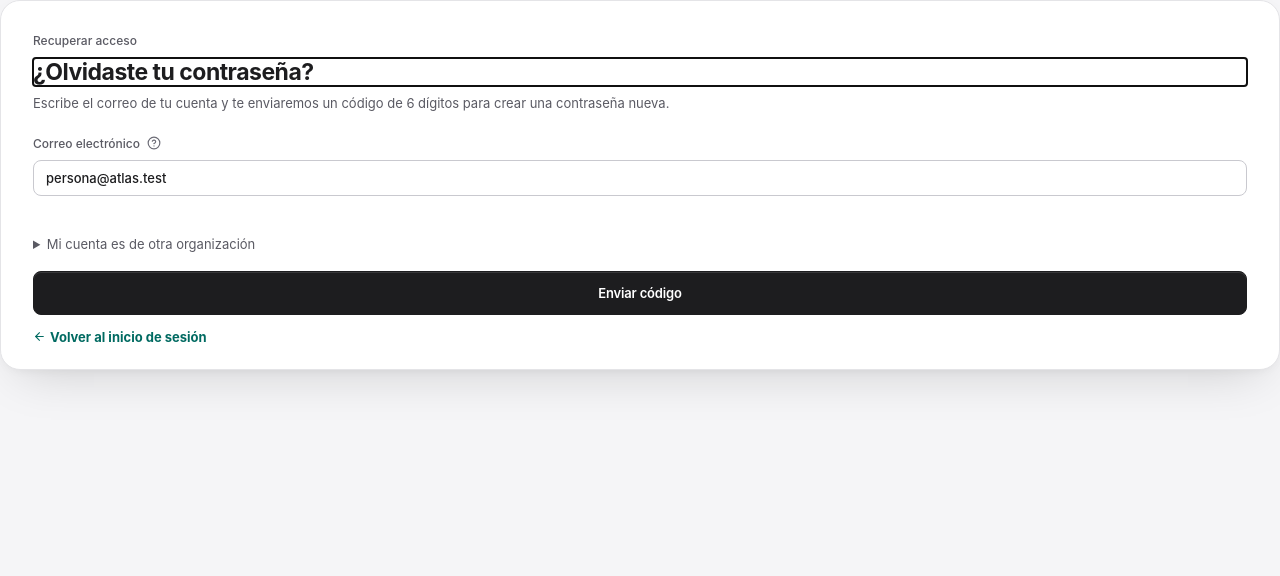
Scenario: PasswordRecovery › pide el código al correo escrito y responde lo mismo exista o no la cuenta
The width and height of the screenshot is (1280, 576).
Click the button "Enviar código": coordinates (640, 293) [33,271,1247,315]
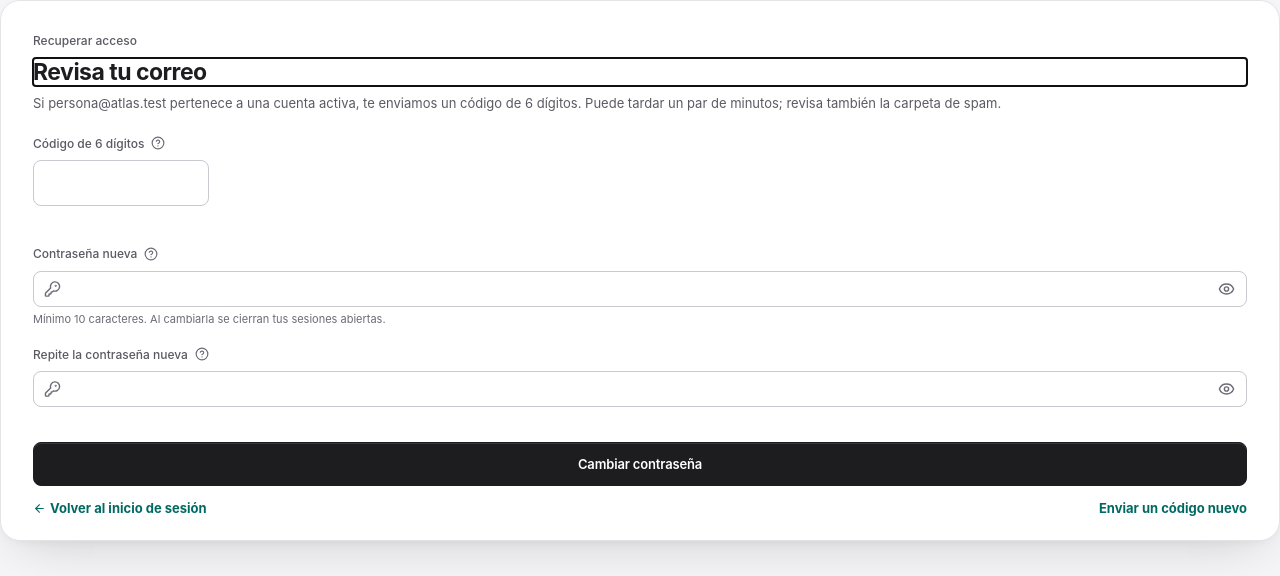
Result: the heading "Revisa tu correo" is shown at [33,58,207,86]
Result: the text "Si persona@atlas.test pertenece a una cuenta activa" is shown at [33,95,1001,111]
